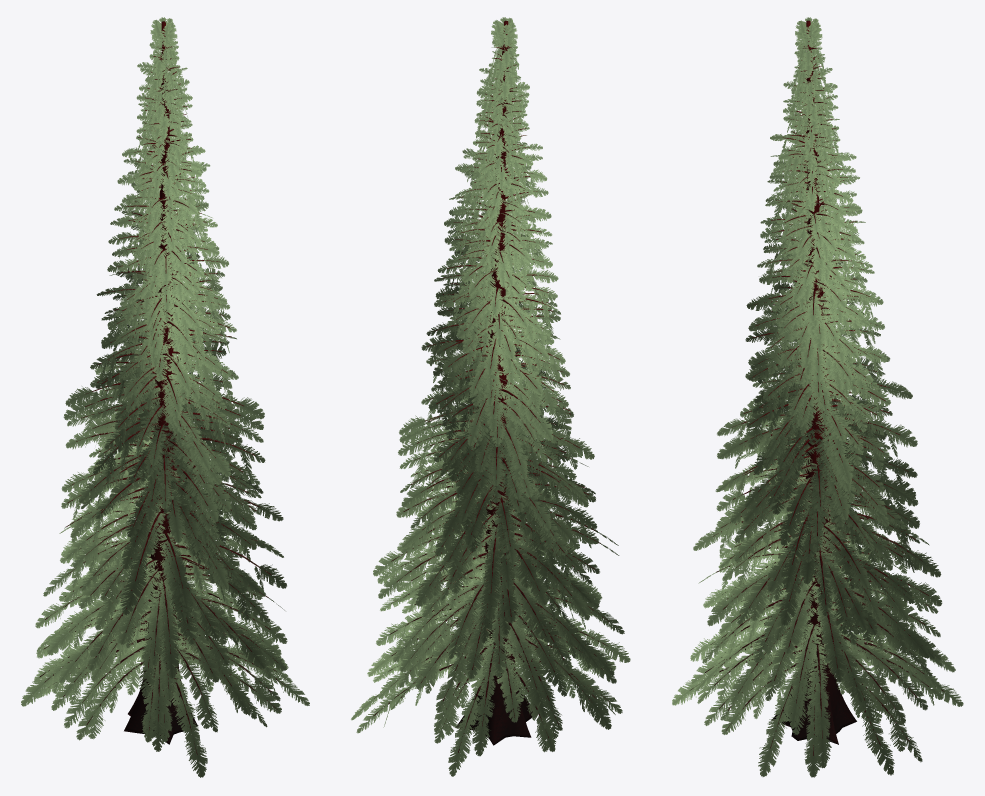
File: baldcypress_v03.glb
3 renders of one model, left to right at view 1: azimuth 30°, elevation 25°; view 2: azimuth 150°, elevation 25°; view 3: azimuth 270°, elevation 25°, orthographic.
Visible parts, largest first — view 1: baldcypress_v03; view 2: baldcypress_v03; view 3: baldcypress_v03.
Boxes of the visible parts, bbox=[...] form: baldcypress_v03: bbox=[21, 17, 309, 777]; baldcypress_v03: bbox=[351, 17, 630, 776]; baldcypress_v03: bbox=[672, 17, 963, 777].
Size of the model in its own units: 11.88 by 30.21 by 11.74.
2 materials, 2 textured.
